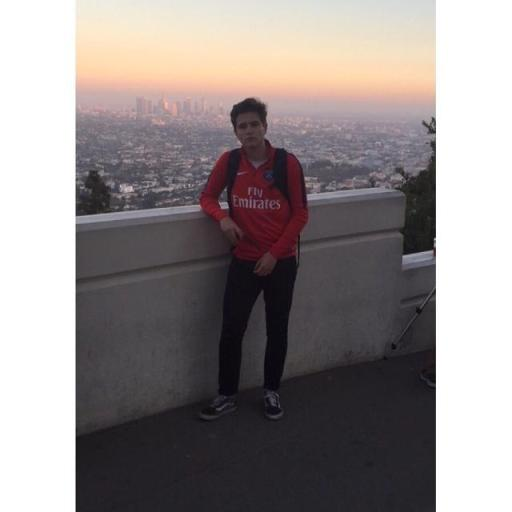Emirates: (229, 184, 283, 212)
